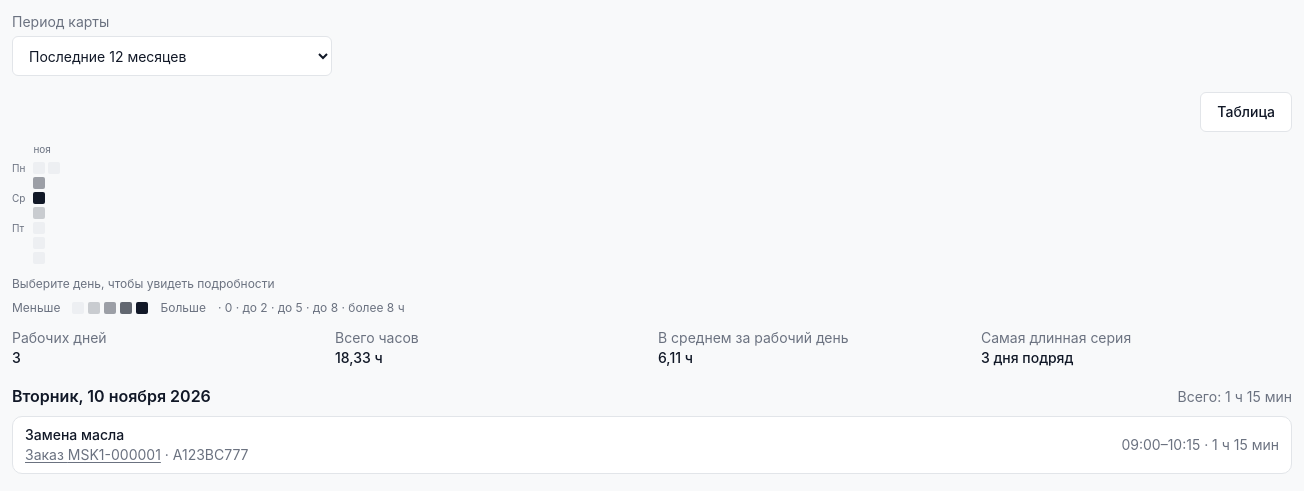
Test: тепловая карта активности › панель: выбор дня запрашивает его записи; ошибка доступа не прячется за пустой картой
Click the button named "Среда, 4 ноября 2026 · 10 ч · 5 работ" at (39, 198), box top-left (33, 192), bottom-right (45, 204)
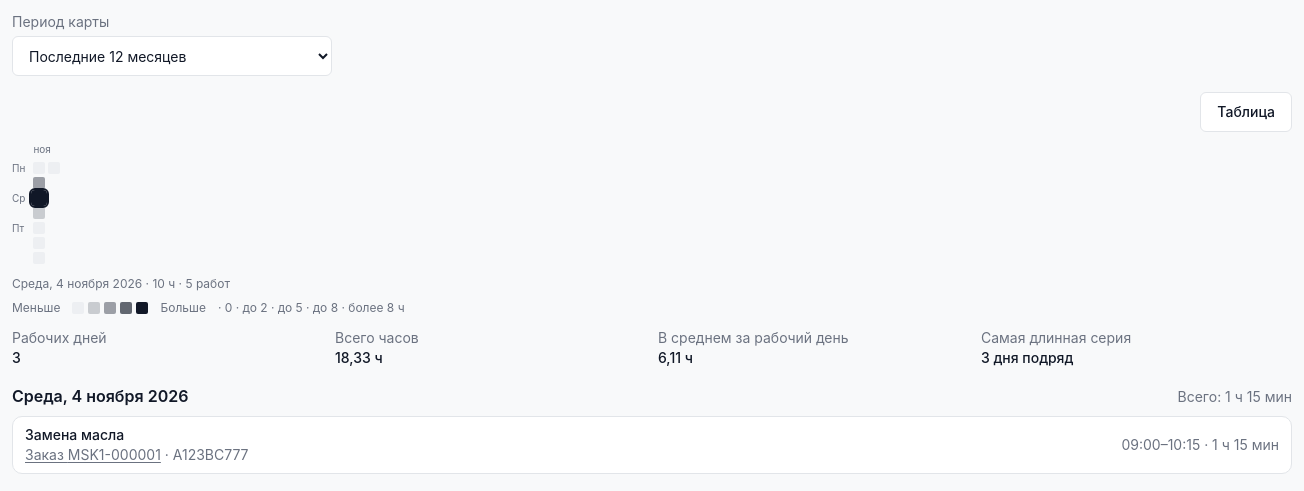
Expected: the text "Замена масла" is shown, top-left (25, 426), bottom-right (124, 443)
Expected: the heading "Среда, 4 ноября 2026" is shown, top-left (12, 384), bottom-right (188, 408)
